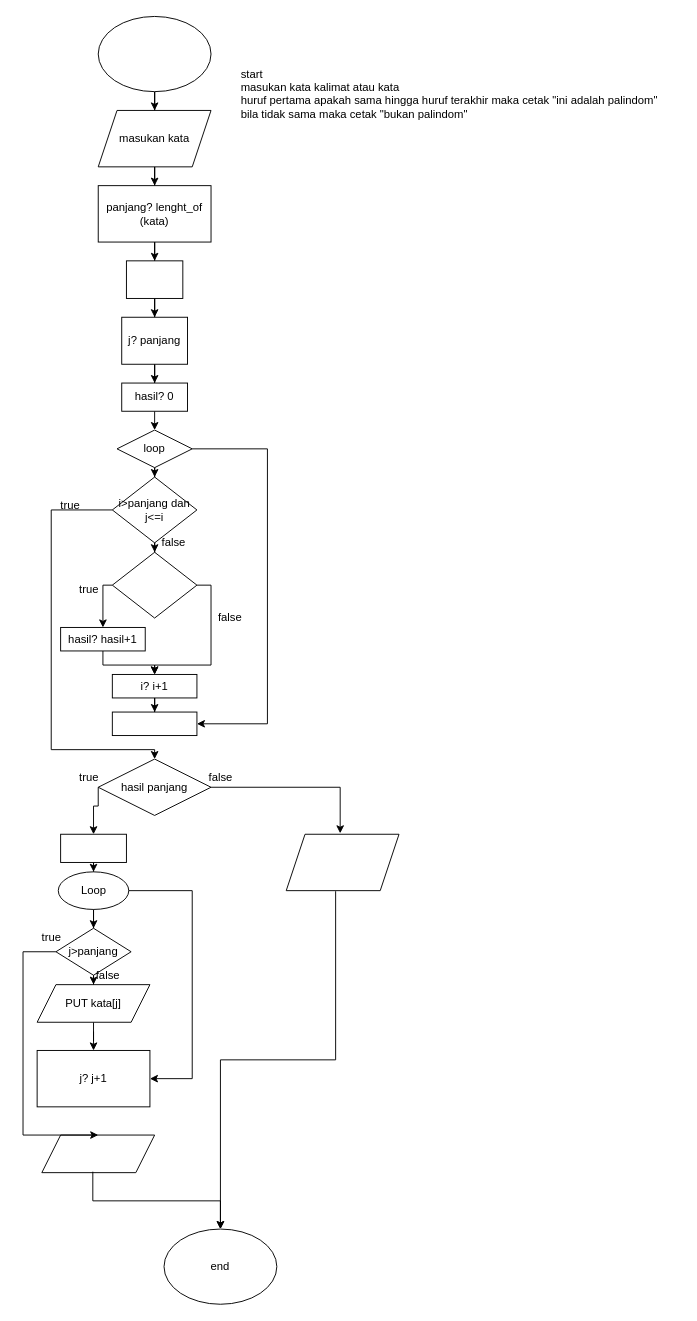
Some shapes in this 697 by 1321 pixel diagram are drawn without their labels. The box of each missing label's shape, as (x1, y1, x2, y2) in pixels:
i? 1: (125, 260, 183, 298)
j ? 1: (60, 833, 126, 862)
j? j-1: (111, 711, 197, 736)
kata[i]==kata[j]: (111, 551, 197, 618)
PUT "bukan palindom": (285, 833, 399, 891)
PUT "ini adalah palindom": (41, 1134, 155, 1173)
start: (97, 16, 211, 92)
